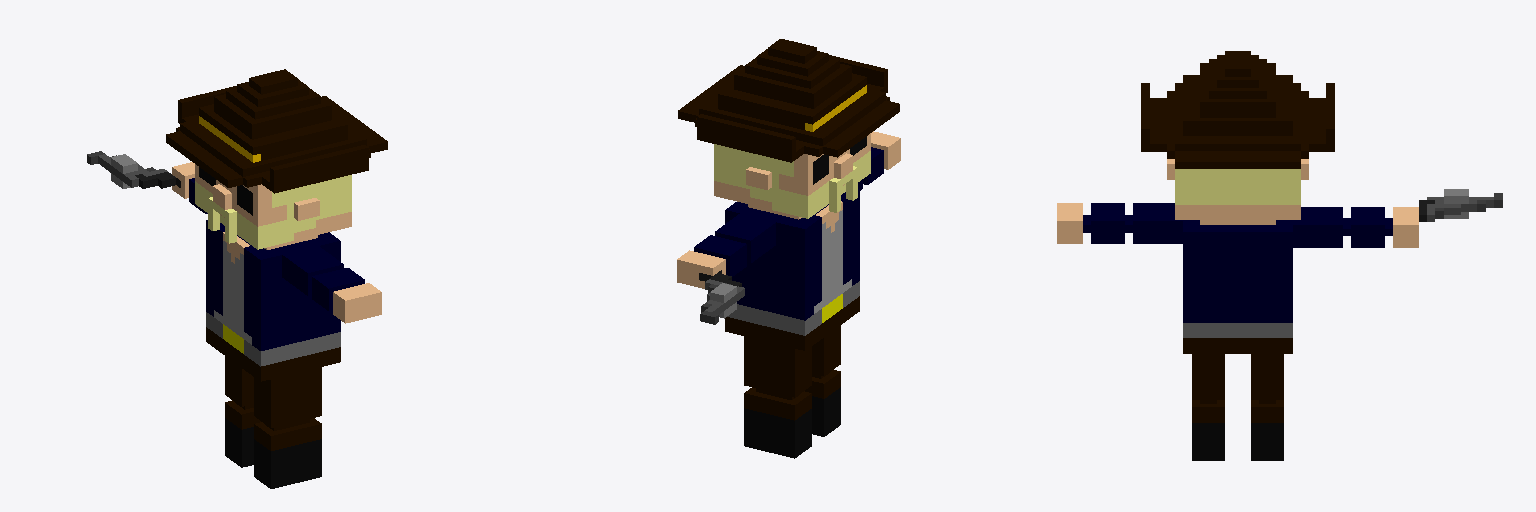
The picture shows the model from 3 angles: view 1: azimuth 30°, elevation 25°; view 2: azimuth 150°, elevation 25°; view 3: azimuth 270°, elevation 25°; orthographic projection.
Visible parts, largest first — view 1: object 1; view 2: object 1; view 3: object 1.
Part boxes in pixels (bbox=[...]): object 1: bbox=[87, 69, 387, 488]; object 1: bbox=[677, 39, 900, 458]; object 1: bbox=[1057, 51, 1502, 460].
Bounding box in the file's own units: 2.2 × 5.1 × 5.3.
Materials: 1 (1 with a texture image).